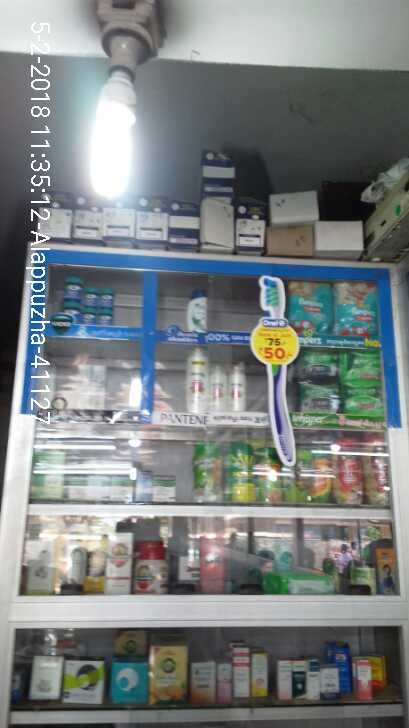vicks: (63, 275, 120, 324)
